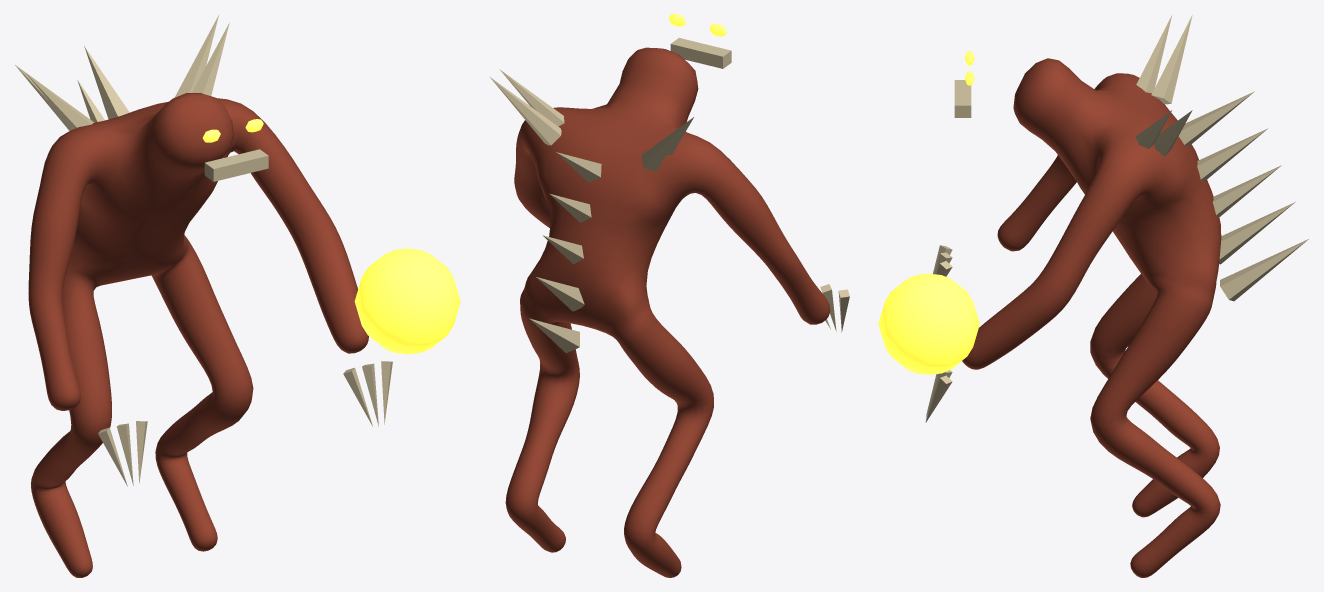
File: DM_Imp.fbx
The picture shows the model from 3 angles, left to right: view 1: azimuth 30°, elevation 25°; view 2: azimuth 150°, elevation 25°; view 3: azimuth 270°, elevation 25°; orthographic projection. The views are drawn at different scales.
Visible parts, largest first — view 1: DM_Imp; view 2: DM_Imp; view 3: DM_Imp.
Boxes of the visible parts, x1,y1,x2,y2 form: DM_Imp: (15, 15, 460, 577); DM_Imp: (490, 14, 849, 577); DM_Imp: (878, 15, 1308, 577).
Bounding box in the file's own units: 1.17 × 1.58 × 1.27.
